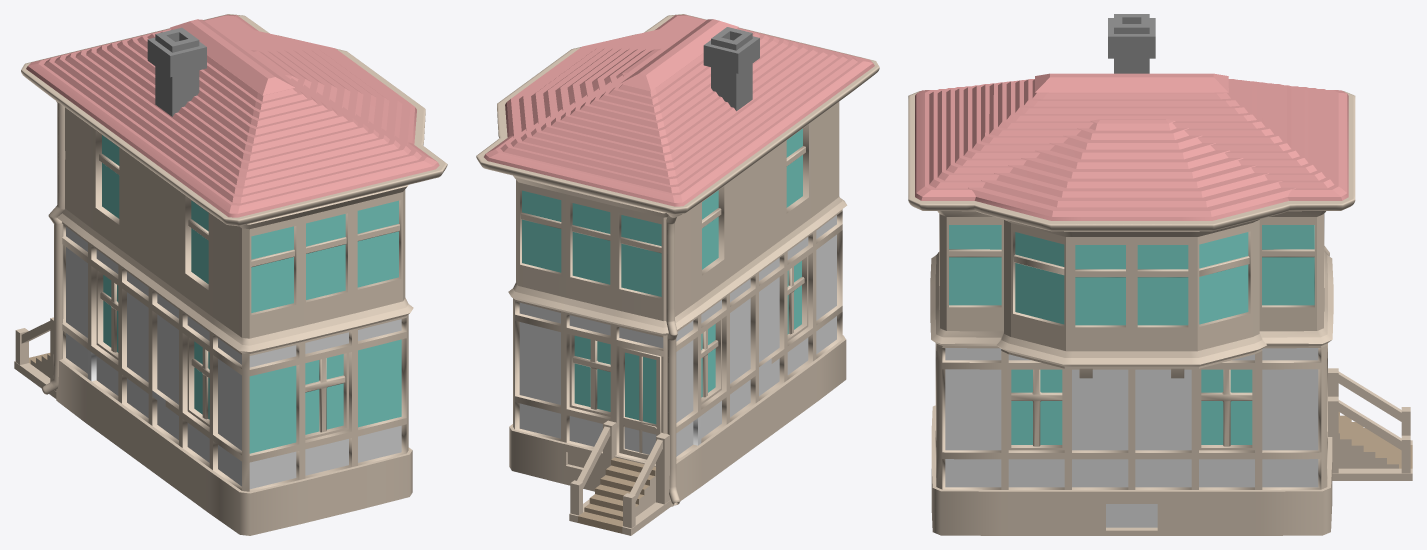
File: building_07.fbx
The picture shows the model from 3 angles, left to right: view 1: azimuth 30°, elevation 25°; view 2: azimuth 150°, elevation 25°; view 3: azimuth 270°, elevation 25°; orthographic projection. The views are drawn at different scales.
Parts seen in each view (by area): view 1: polySurface258; view 2: polySurface258; view 3: polySurface258.
Part boxes in pixels (bbox=[...]): polySurface258: bbox=[14, 14, 447, 535]; polySurface258: bbox=[476, 14, 879, 535]; polySurface258: bbox=[908, 14, 1412, 535].
Size of the model in its own units: 9.64 by 14.73 by 15.25.
